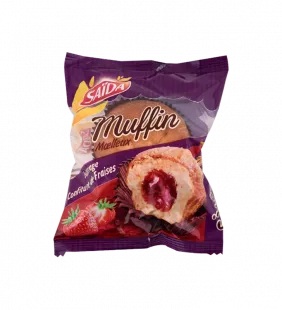SAIDA: (43, 43, 237, 269)
